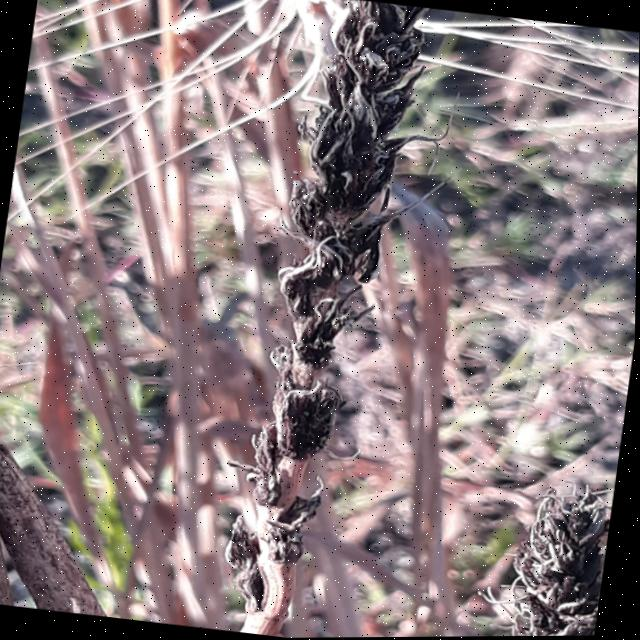loose_charred: (171, 0, 488, 639), (0, 421, 147, 619), (468, 448, 619, 637)
